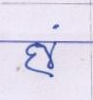anusvara: (53, 25, 59, 29)
